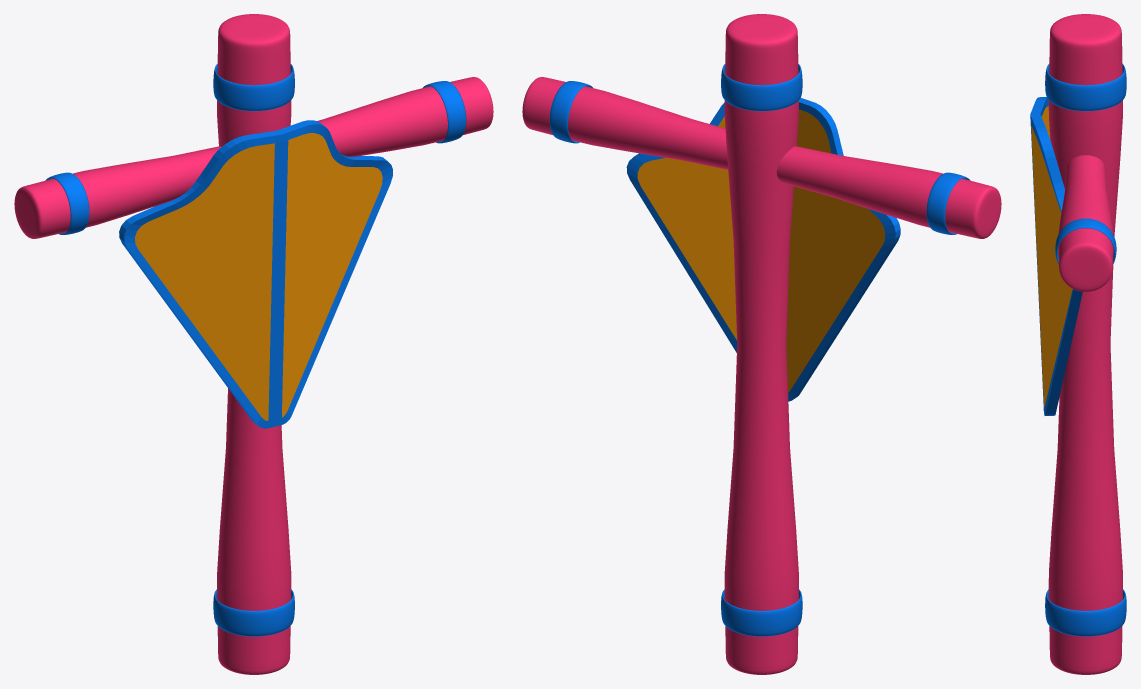
3 views of the same model, side by side, from view 1: azimuth 30°, elevation 25°; view 2: azimuth 150°, elevation 25°; view 3: azimuth 270°, elevation 25° (orthographic).
Parts seen in each view (by area): view 1: Shield, Dummy; view 2: Dummy, Shield; view 3: Dummy, Shield.
Part boxes in pixels (box(x1,y1,x2,y2)): Shield: box(119, 120, 392, 428); Dummy: box(14, 14, 493, 674); Dummy: box(522, 14, 1001, 674); Shield: box(626, 98, 900, 401); Dummy: box(1045, 14, 1126, 674); Shield: box(1030, 97, 1082, 415).
Bounding box in the file's own units: 24.19 × 32.22 × 4.43.
